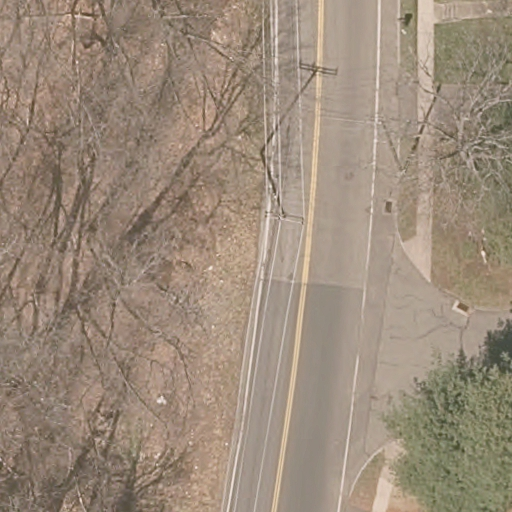DT: (259, 151, 304, 225)
